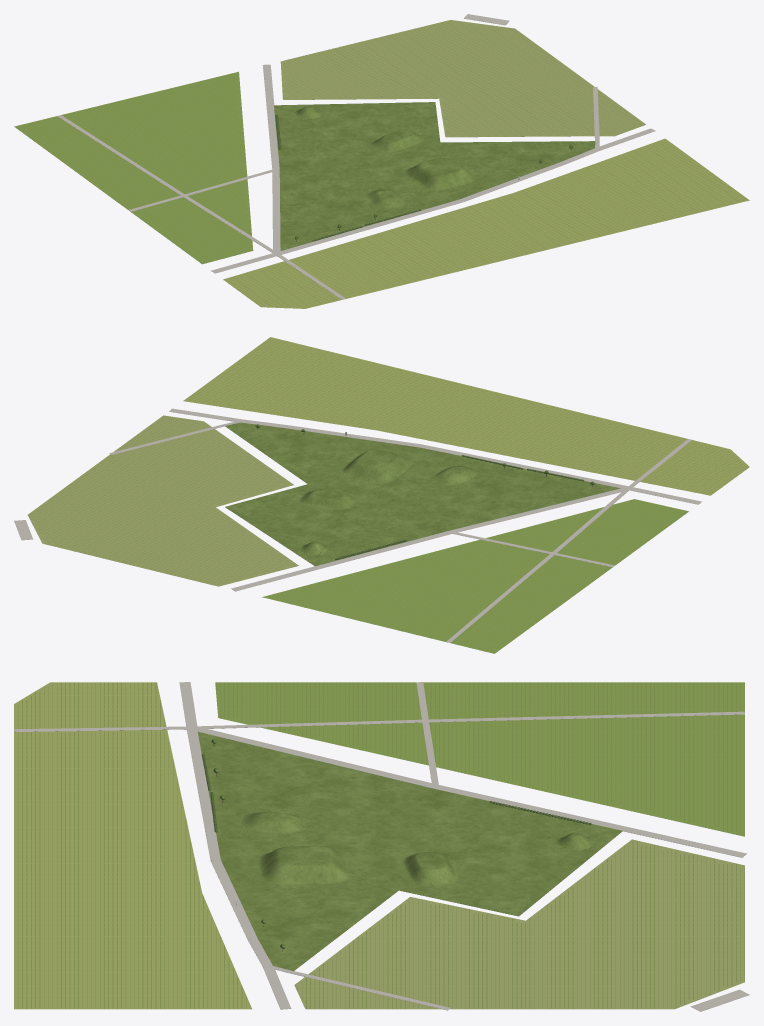
File: bogam-tumuli.glb
3 renders of one model, top to bottom at view 1: azimuth 30°, elevation 25°; view 2: azimuth 150°, elevation 25°; view 3: azimuth 270°, elevation 25°, orthographic. The views are drawn at different scales.
Parts seen in each view (by area): view 1: mapped_farmland_963585586, mapped_farmland_963585588, mapped_farmland_963585587, ground_floor_bogam_lawn, estimated_crop_rows_963585586, estimated_crop_rows_963585588, estimated_crop_rows_963585587, mound_3, mound_2, road_468614763_6, mound_4, road_766680150_0 (+1 smaller); view 2: mapped_farmland_963585586, mapped_farmland_963585588, mapped_farmland_963585587, ground_floor_bogam_lawn, estimated_crop_rows_963585586, estimated_crop_rows_963585588, estimated_crop_rows_963585587, mound_3, mound_2, road_468614763_6, road_766680150_0, mound_4 (+1 smaller); view 3: mapped_farmland_963585586, mapped_farmland_963585588, mapped_farmland_963585587, ground_floor_bogam_lawn, estimated_crop_rows_963585586, estimated_crop_rows_963585588, estimated_crop_rows_963585587, mound_3, mound_2, road_468614763_6, road_766680150_0, mound_4 (+6 smaller).
Part boxes in pixels (x1,y1,x2,y2): mapped_farmland_963585586: [223, 138, 749, 308]; mapped_farmland_963585588: [280, 20, 645, 137]; mapped_farmland_963585587: [14, 71, 253, 264]; ground_floor_bogam_lawn: [274, 102, 595, 250]; estimated_crop_rows_963585586: [224, 140, 747, 307]; estimated_crop_rows_963585588: [283, 20, 644, 136]; estimated_crop_rows_963585587: [16, 75, 251, 263]; mound_3: [404, 158, 476, 190]; mound_2: [371, 129, 425, 152]; road_468614763_6: [275, 199, 462, 254]; mound_4: [366, 188, 405, 209]; road_766680150_0: [272, 169, 280, 253]; mapped_farmland_963585586: [183, 337, 749, 495]; mapped_farmland_963585588: [27, 415, 298, 586]; mapped_farmland_963585587: [262, 499, 688, 653]; ground_floor_bogam_lawn: [225, 422, 620, 566]; estimated_crop_rows_963585586: [186, 338, 748, 494]; estimated_crop_rows_963585588: [28, 416, 295, 585]; estimated_crop_rows_963585587: [272, 499, 688, 652]; mound_3: [341, 449, 413, 482]; mound_2: [298, 489, 357, 509]; road_468614763_6: [419, 444, 629, 489]; road_766680150_0: [449, 488, 624, 533]; mound_4: [432, 465, 478, 485]; mapped_farmland_963585586: [14, 682, 251, 1009]; mapped_farmland_963585588: [294, 839, 744, 1009]; mapped_farmland_963585587: [215, 682, 744, 836]; ground_floor_bogam_lawn: [198, 732, 622, 971]; estimated_crop_rows_963585586: [18, 682, 246, 1008]; estimated_crop_rows_963585588: [297, 841, 744, 1008]; estimated_crop_rows_963585587: [216, 682, 740, 831]; mound_3: [258, 846, 349, 884]; mound_2: [403, 852, 458, 885]; road_468614763_6: [187, 727, 220, 860]; road_766680150_0: [191, 727, 437, 788]; mound_4: [240, 812, 308, 833].
Size of what is drawn, in the model's own units: 363 by 6.23 by 342.
23 materials, 1 textured.
